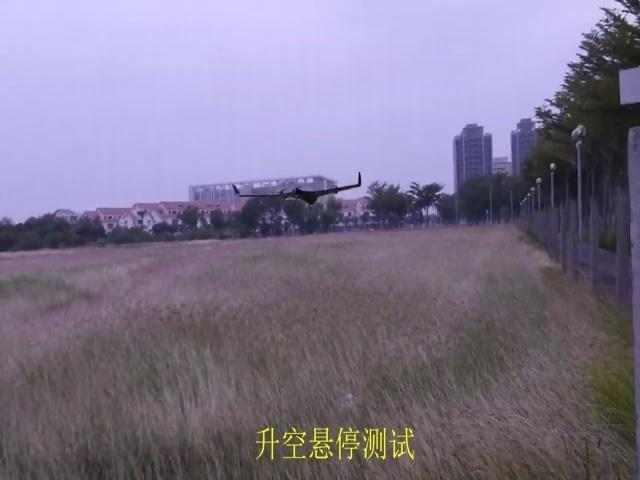Airplane: (232, 172, 363, 205)
